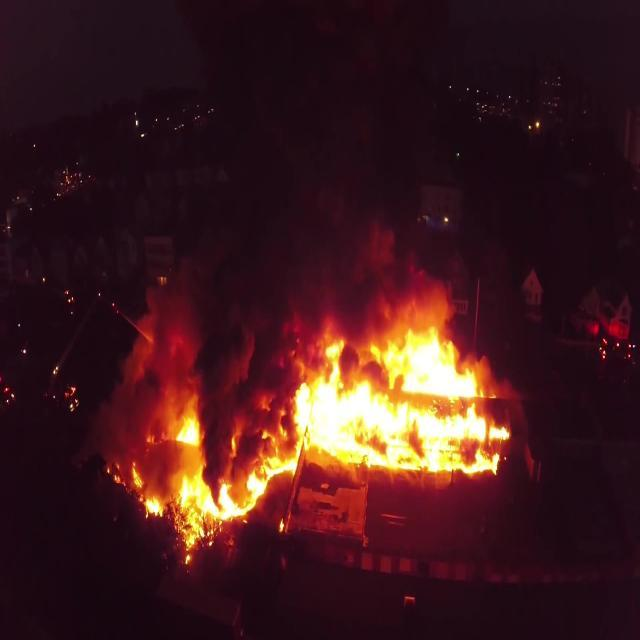Fire: (306, 335, 486, 485), (170, 404, 208, 520)
Smoke: (220, 315, 276, 410)
